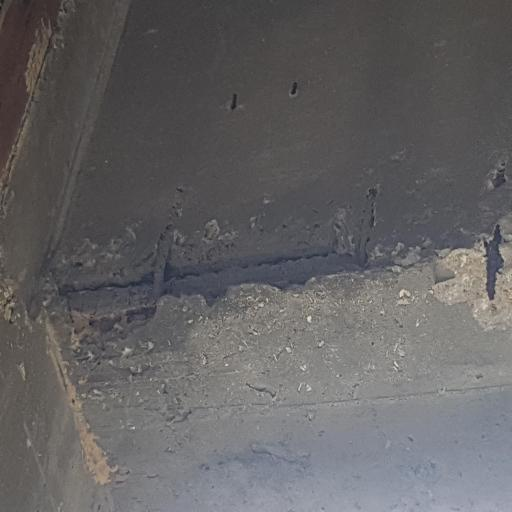exposed_rebar: (67, 187, 378, 328), (486, 224, 504, 300), (289, 82, 299, 98), (229, 92, 237, 110)
